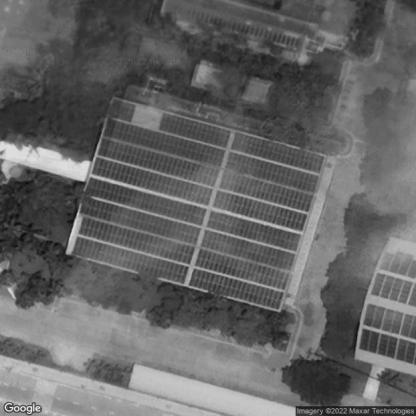solar-pv-panel: (72, 98, 327, 312), (357, 328, 416, 364), (363, 305, 415, 345), (371, 274, 416, 308), (378, 250, 416, 280)
